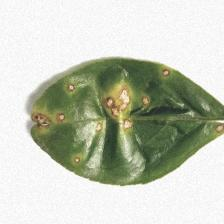canker: (26, 67, 159, 156)
